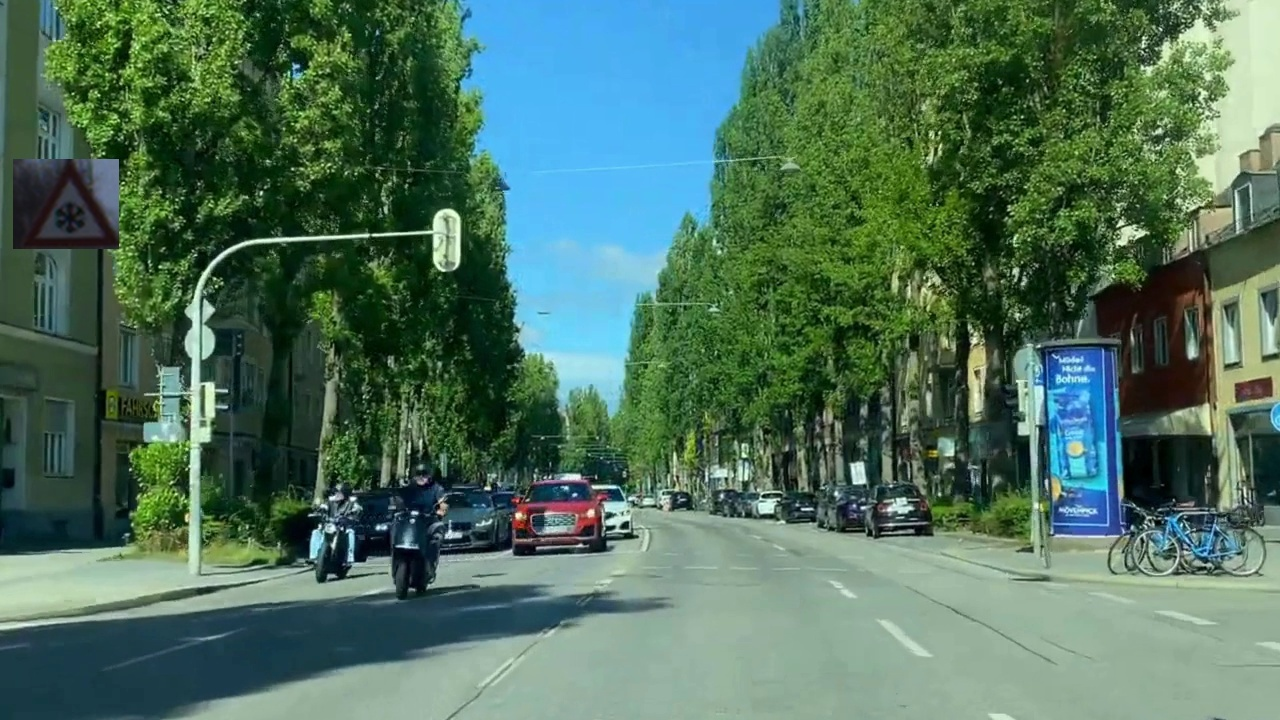Ice/snow: (13, 159, 119, 249)
